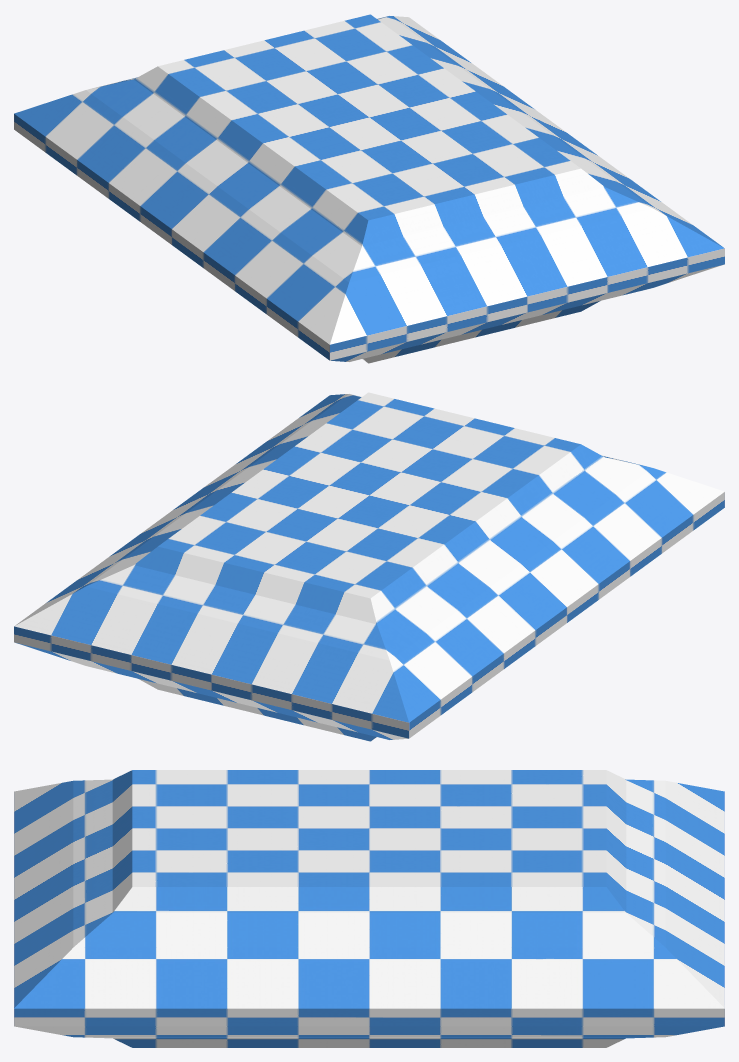
Rendered from BaguetteCutDouble.FBX.
3 renders of one model, top to bottom at view 1: azimuth 30°, elevation 25°; view 2: azimuth 150°, elevation 25°; view 3: azimuth 270°, elevation 25°, orthographic. The views are drawn at different scales.
Visible parts, largest first — view 1: BaguetteCutDouble; view 2: BaguetteCutDouble; view 3: BaguetteCutDouble.
Part boxes in pixels (x1,y1,x2,y2): BaguetteCutDouble: (14,14,724,363); BaguetteCutDouble: (14,392,724,741); BaguetteCutDouble: (14,770,724,1047).
Size of the model in its own units: 0.8255 by 0.2858 by 1.14.
